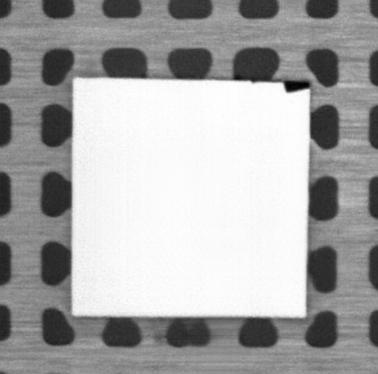DIE_BROKEN: (280, 78, 312, 93)
